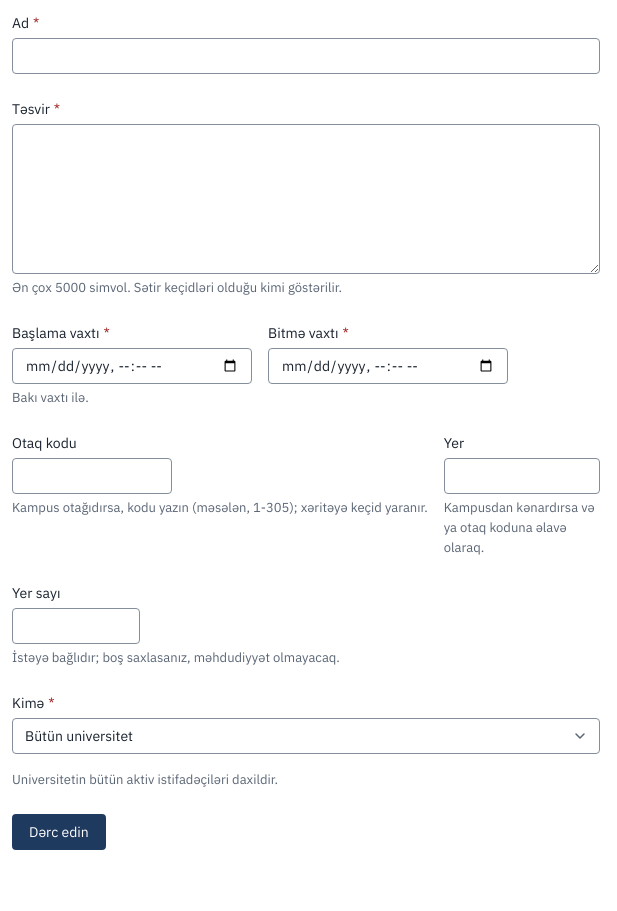
Test case: EventEditor › explains what is missing
The width and height of the screenshot is (617, 911).
In the number field labelled "Yer sayı": (76, 626) [12,608,140,644], type "0"
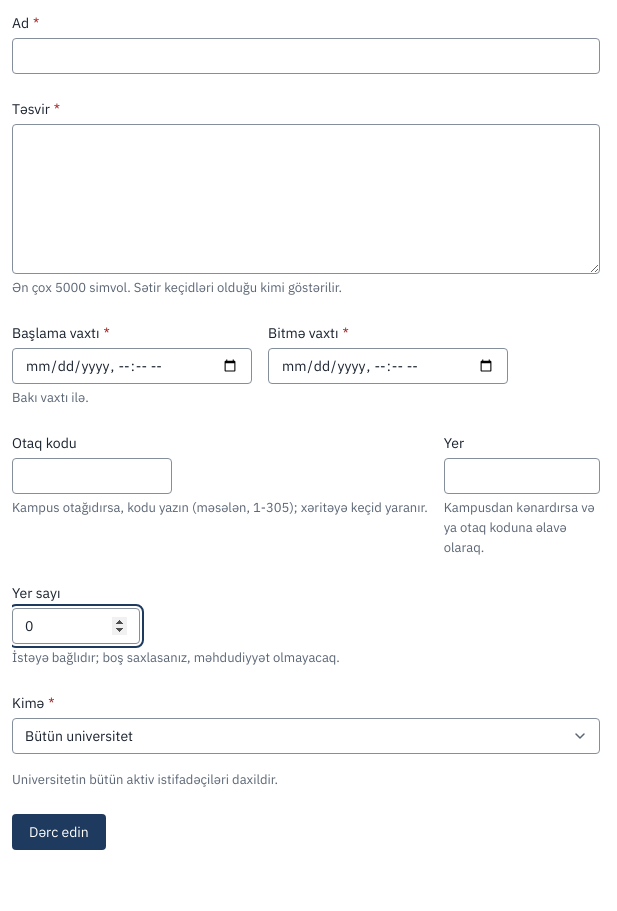
Click the button "Dərc edin": (59, 832) [12,814,106,850]
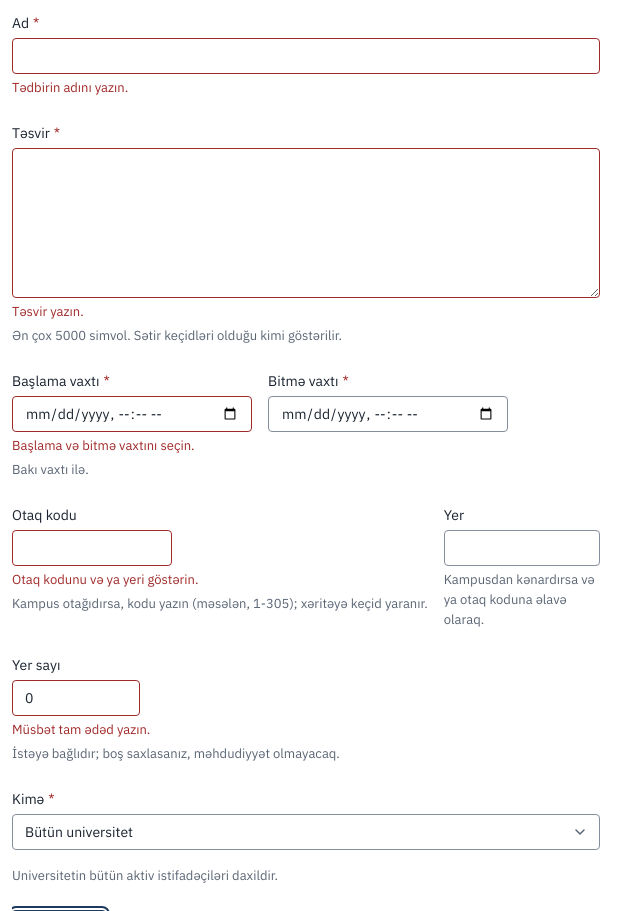
Expected: the text "Tədbirin adını yazın." is shown, [12,79,128,96]
Expected: the text "Başlama və bitmə vaxtını seçin." is shown, [12,437,195,454]
Expected: the text "Otaq kodunu və ya yeri göstərin." is shown, [12,571,198,588]
